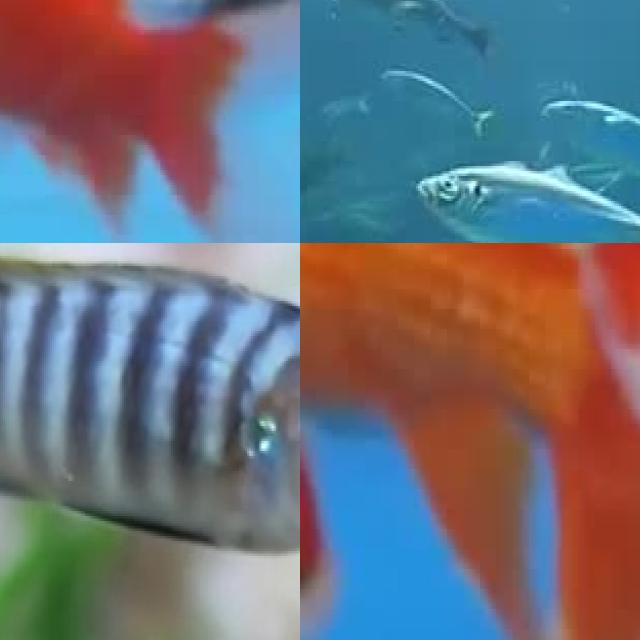fish: (0, 243, 300, 543), (0, 0, 300, 243)
